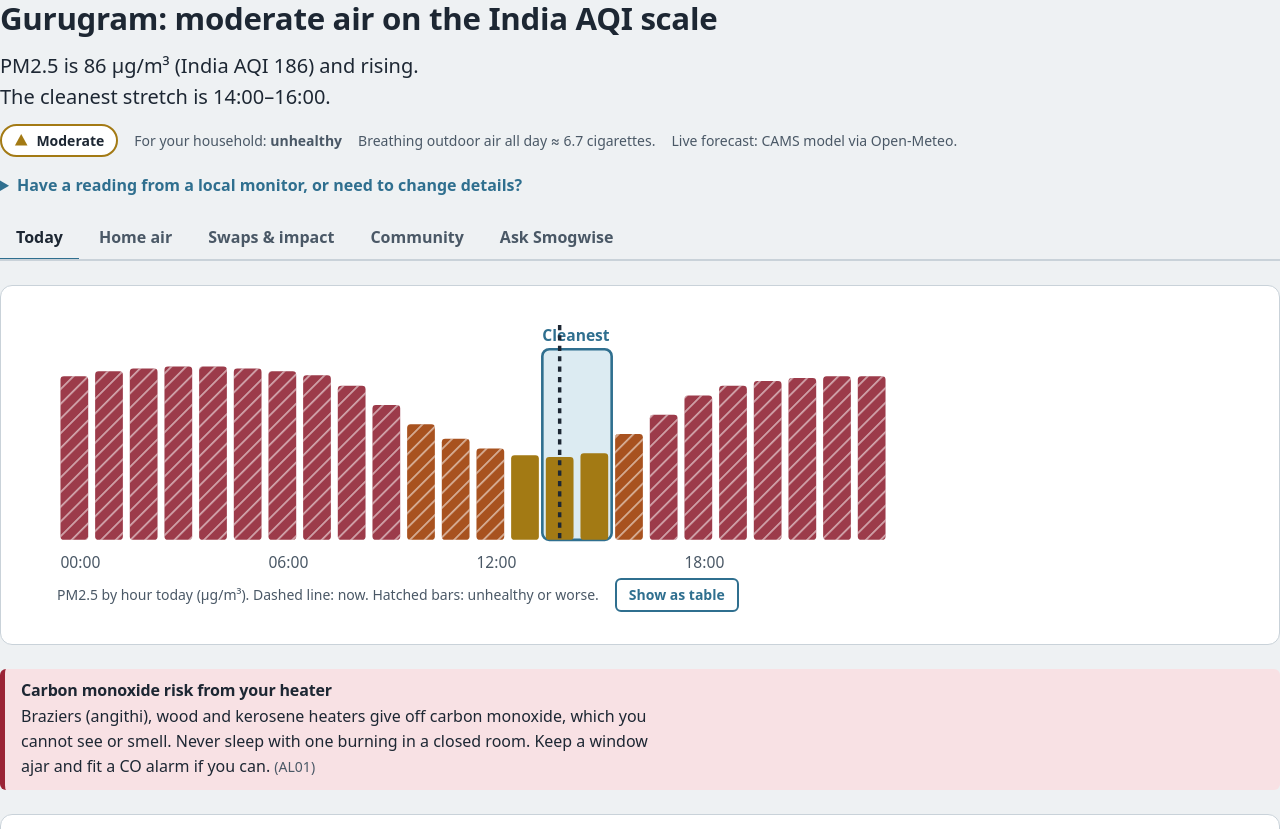
Scenario: PlanView — Community and Ask (lazy) › has no axe violations on Community and Ask
Click the tab "Community". click: (417, 239)
box: [354,217,480,261]
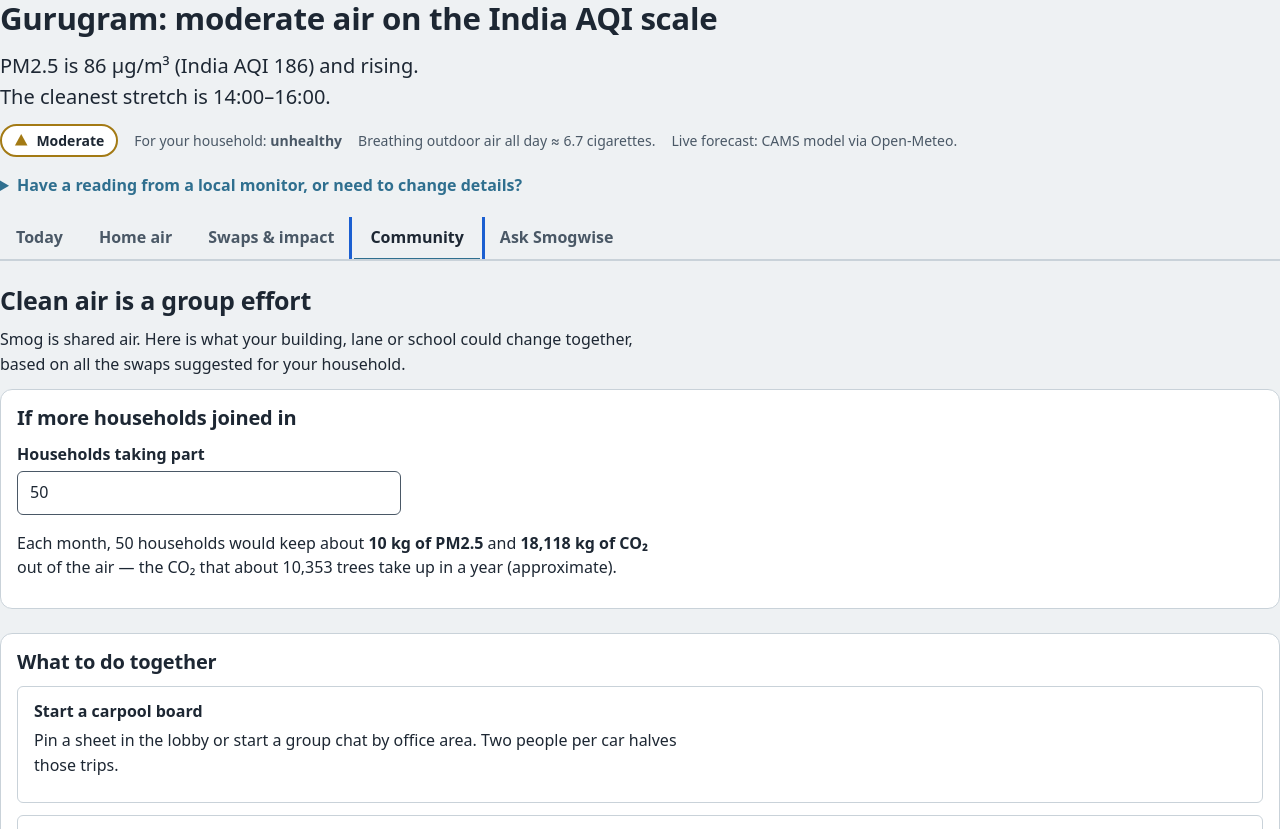
Expected: the number field labelled "Households taking part" is shown, [17,471,401,515]
Click the tab "Ask Smogwise". click: (557, 239)
box: [484,217,630,261]
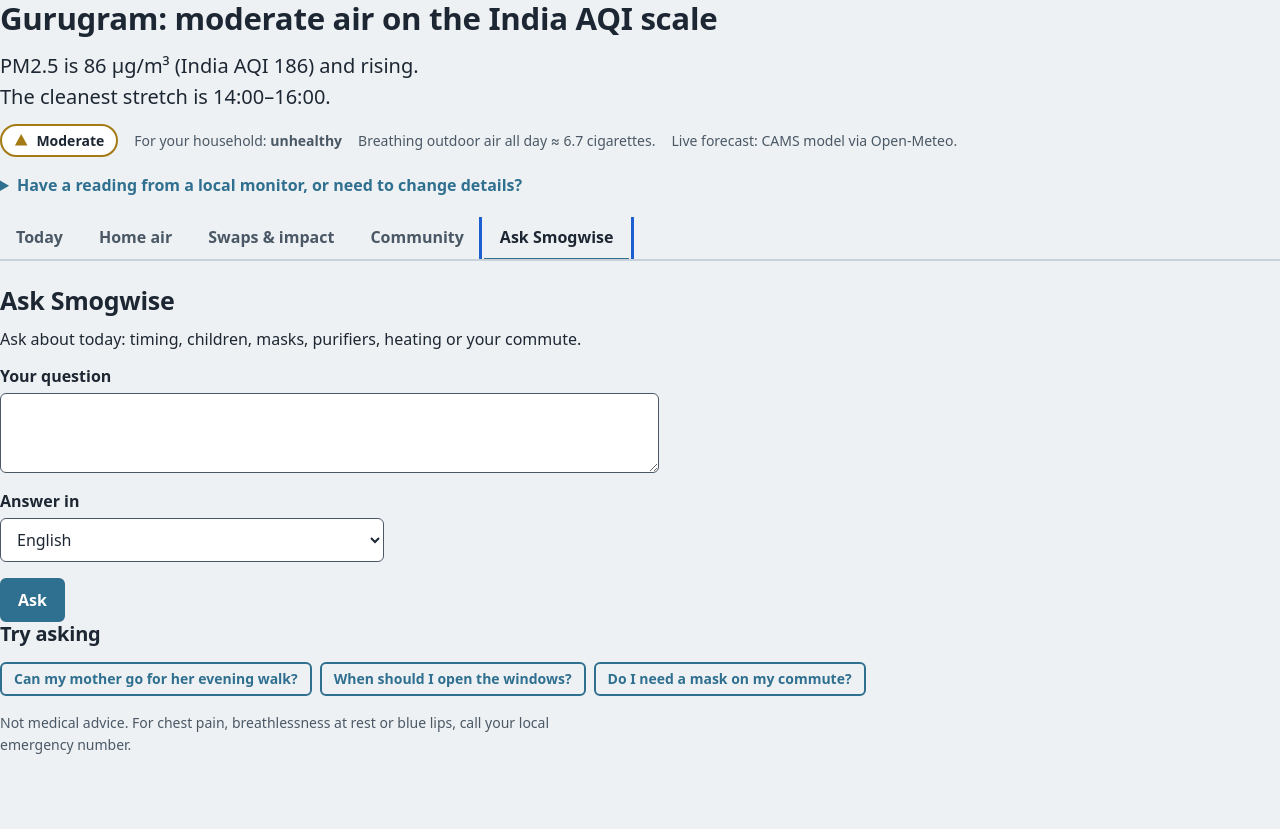
Expected: the text box labelled "Your question" is shown, [0,393,659,473]
